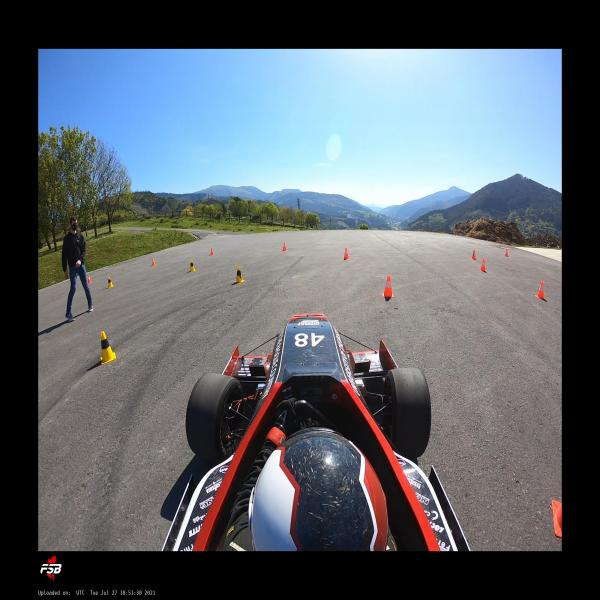orange_cone: (382, 276, 394, 297), (535, 281, 545, 299), (479, 258, 487, 272), (343, 248, 350, 260), (470, 250, 477, 260), (87, 275, 92, 283), (210, 248, 215, 256), (282, 242, 286, 251), (504, 248, 508, 257), (152, 258, 156, 266)
yellow_cone: (100, 331, 117, 365), (234, 266, 245, 283), (189, 260, 196, 272), (108, 276, 114, 288)
